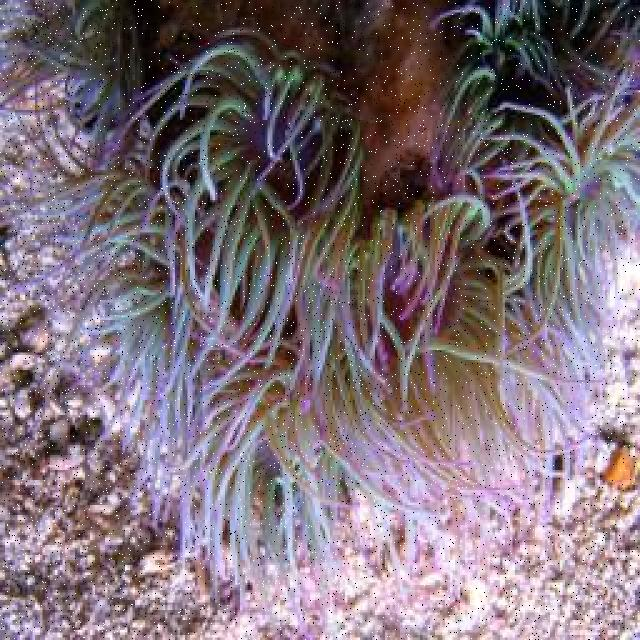reefs: (1, 0, 638, 636)
